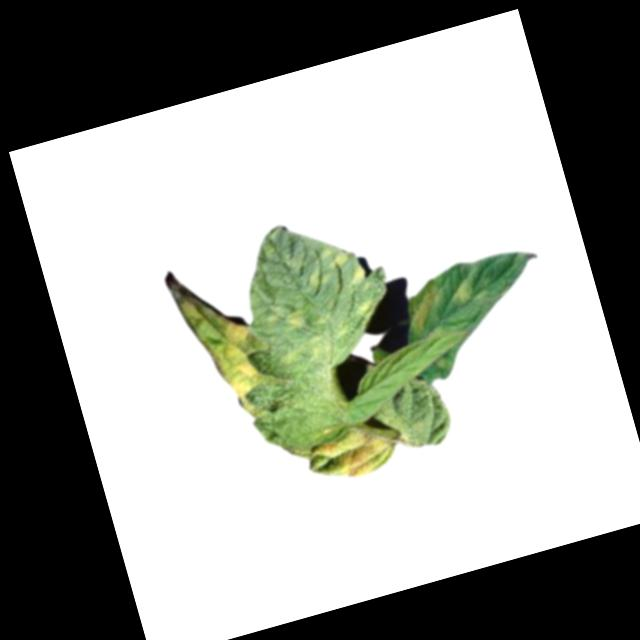Leaf_Mold: (230, 205, 392, 386), (176, 280, 274, 429), (310, 415, 401, 488), (401, 273, 451, 334), (451, 277, 477, 308)
